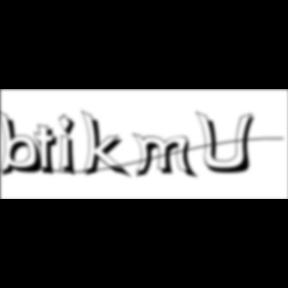U: (196, 110, 260, 176)
b: (0, 109, 50, 179)
i: (59, 112, 83, 180)
k: (80, 108, 134, 181)
m: (132, 132, 200, 181)
t: (34, 124, 66, 179)
